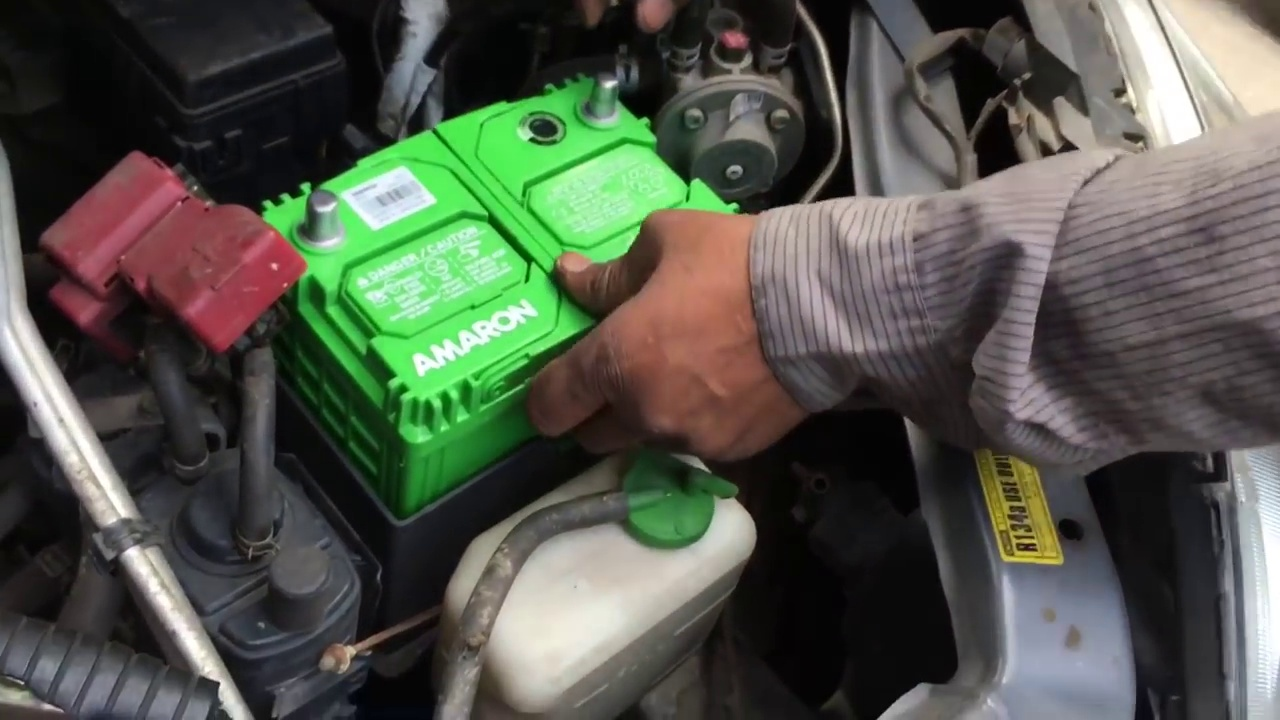battery: (239, 61, 758, 436)
neg_disconnected: (558, 47, 681, 150)
pos_disconnected: (65, 145, 365, 345)
